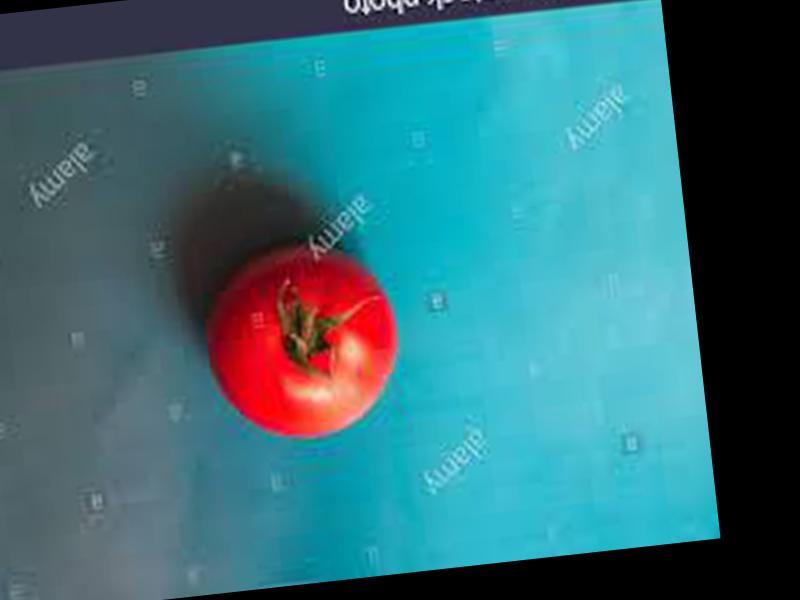Tomato: (200, 235, 406, 448)
